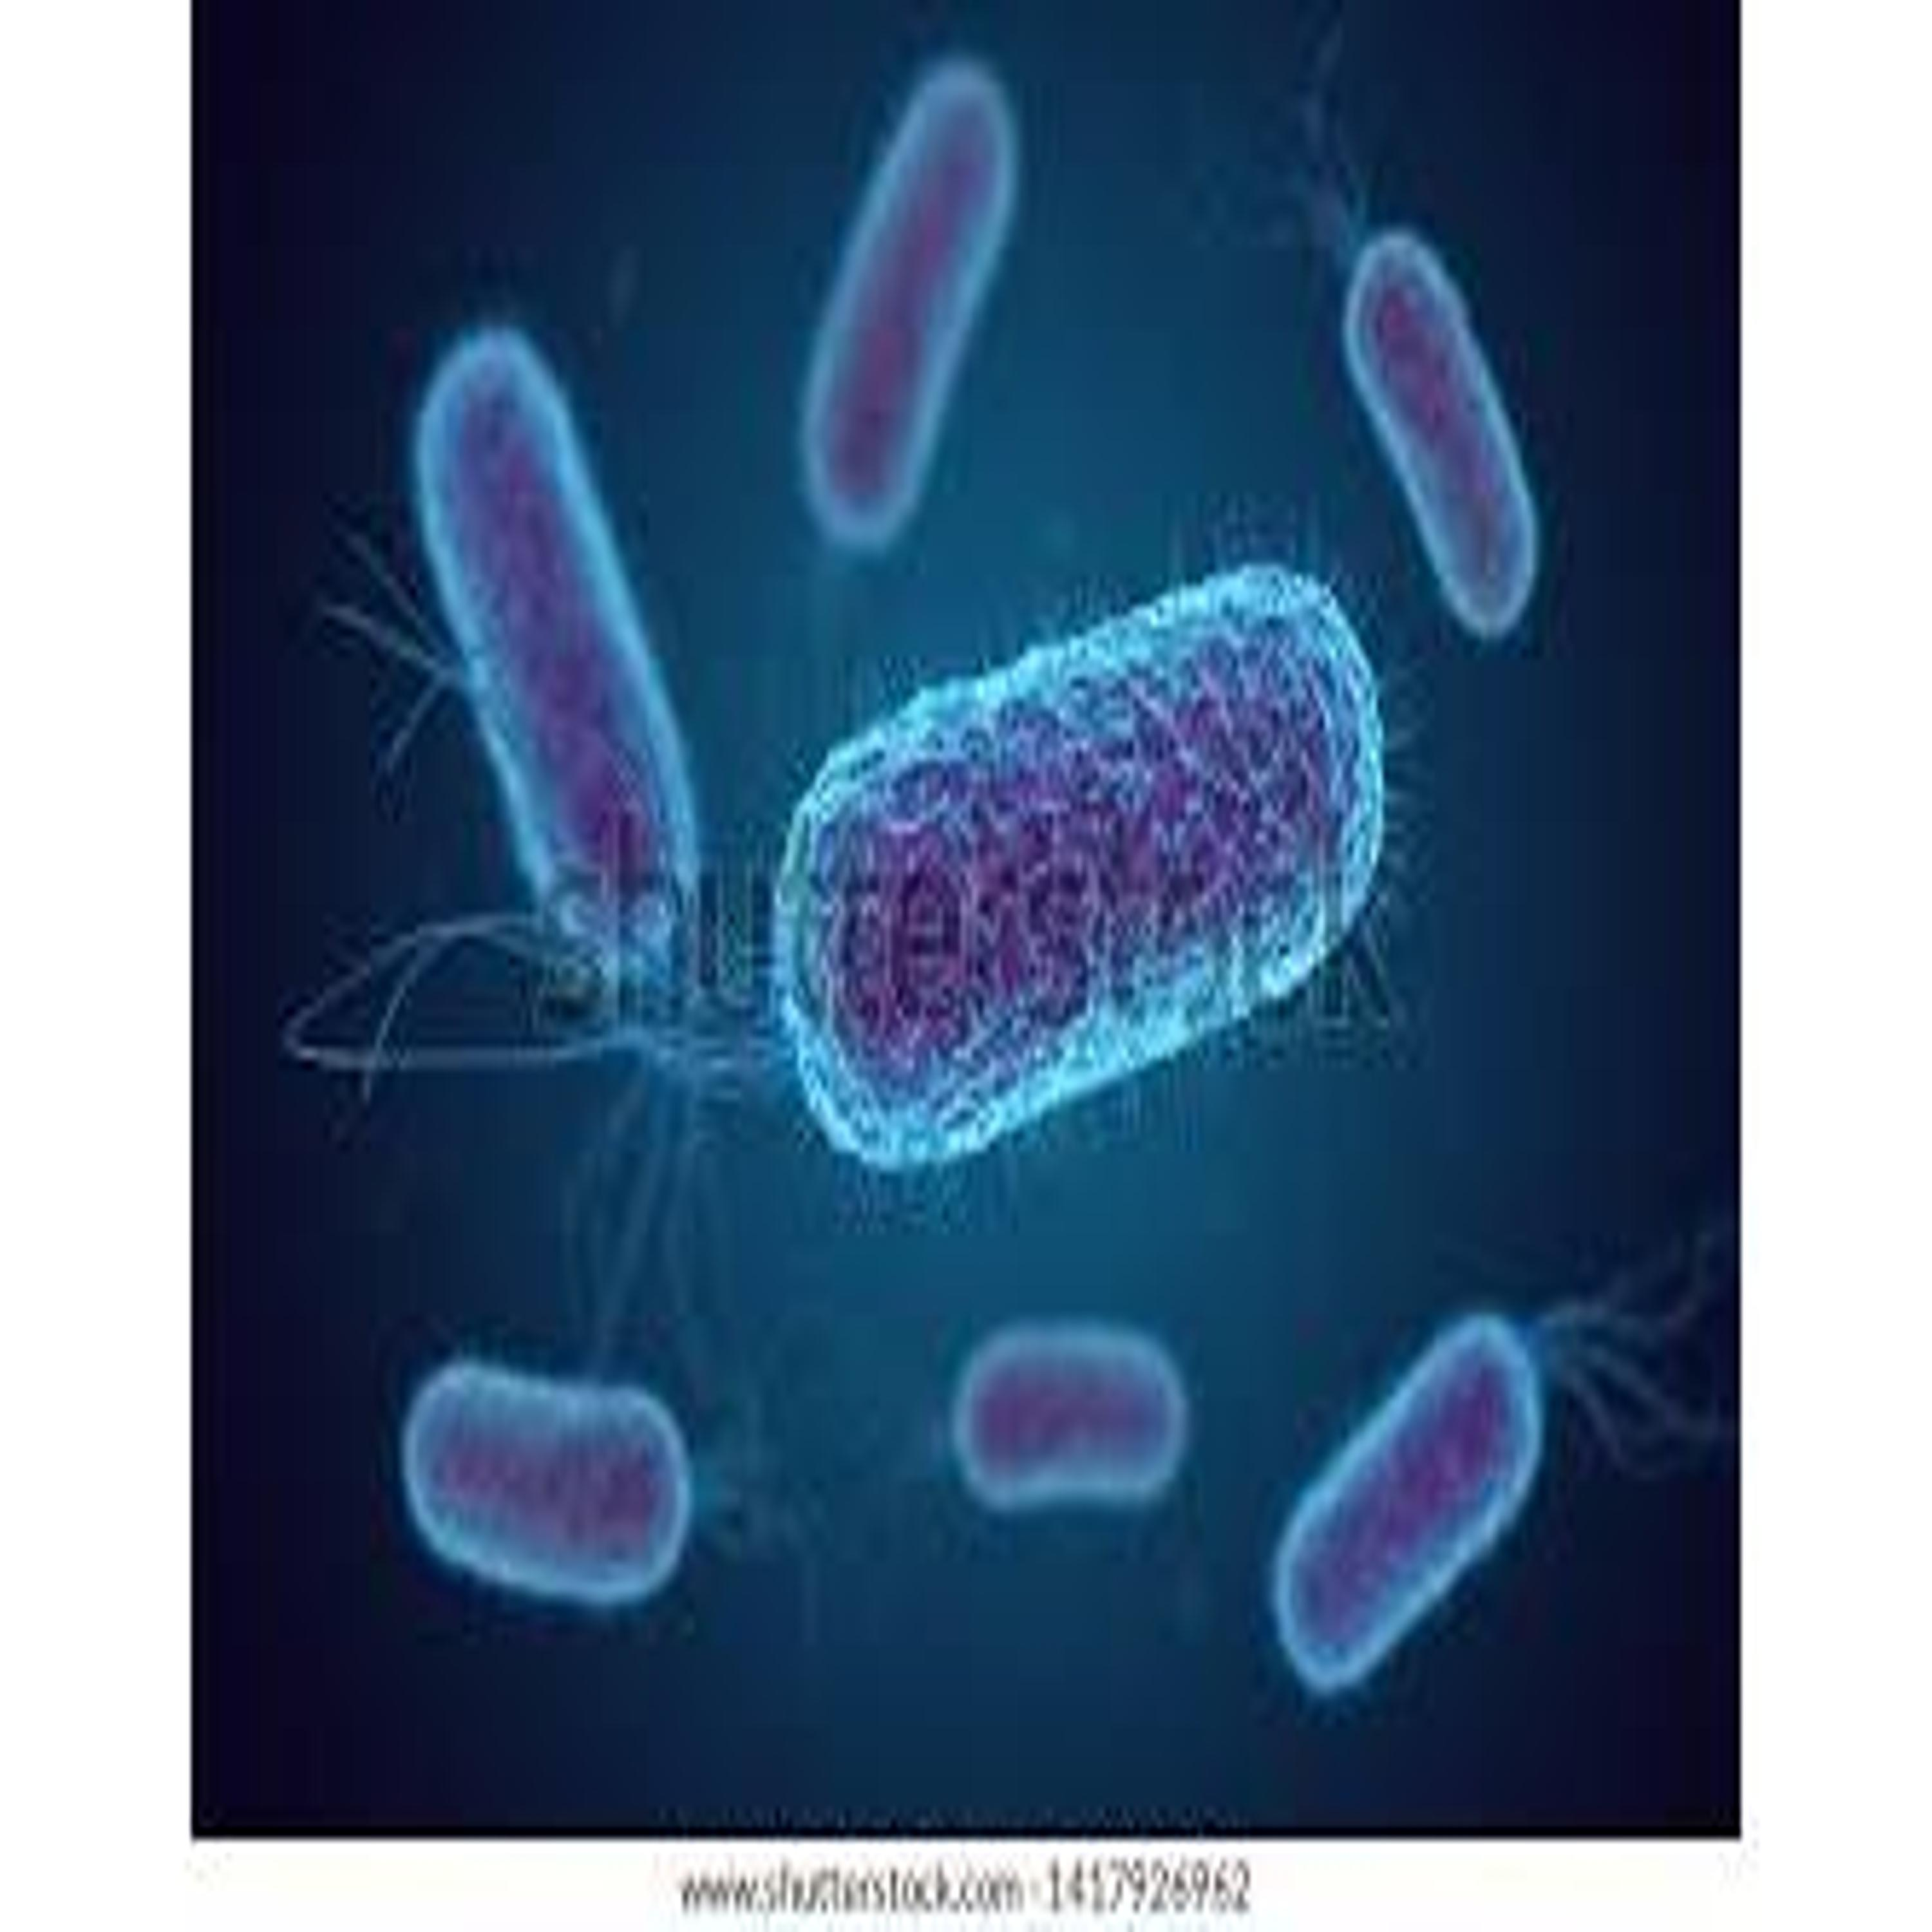e.coli5: (313, 492, 1428, 1215), (1260, 1233, 1741, 1720), (1288, 57, 1557, 655), (377, 1350, 692, 1629)
